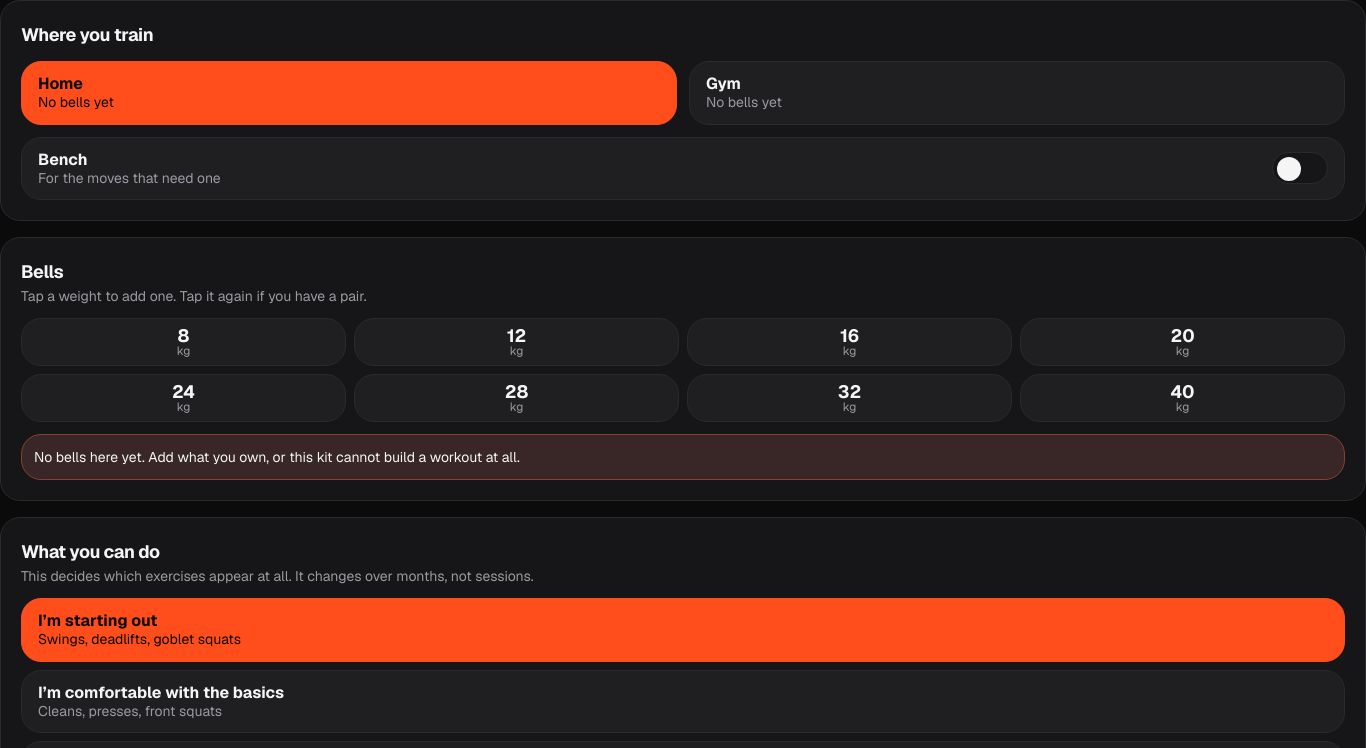
Test: KitEditor › counts distinct weights, not bells, when deciding whether to warn
Click the button with aria-label "Add a 24 kg bell". click: (184, 398)
box: [21,374,346,422]
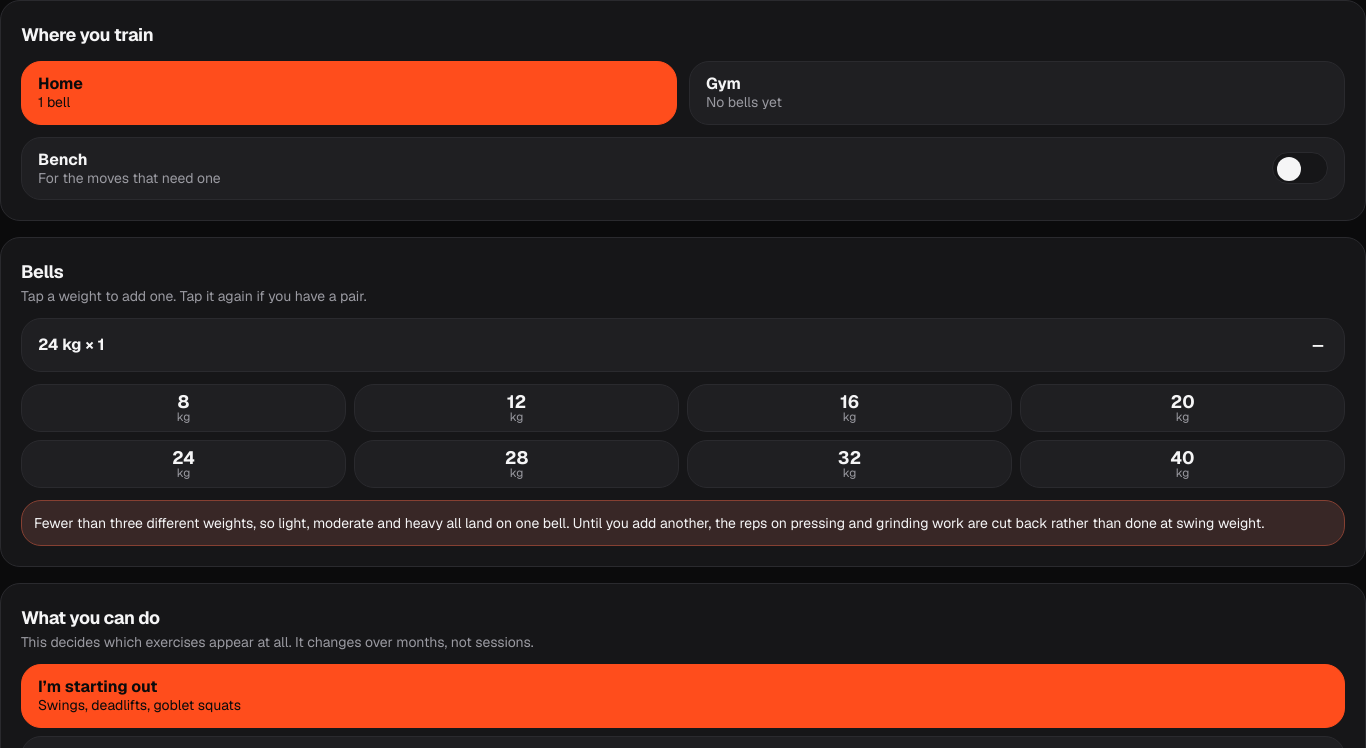
Click the button with aria-label "Add a 24 kg bell". click: (184, 464)
box: [21,440,346,488]
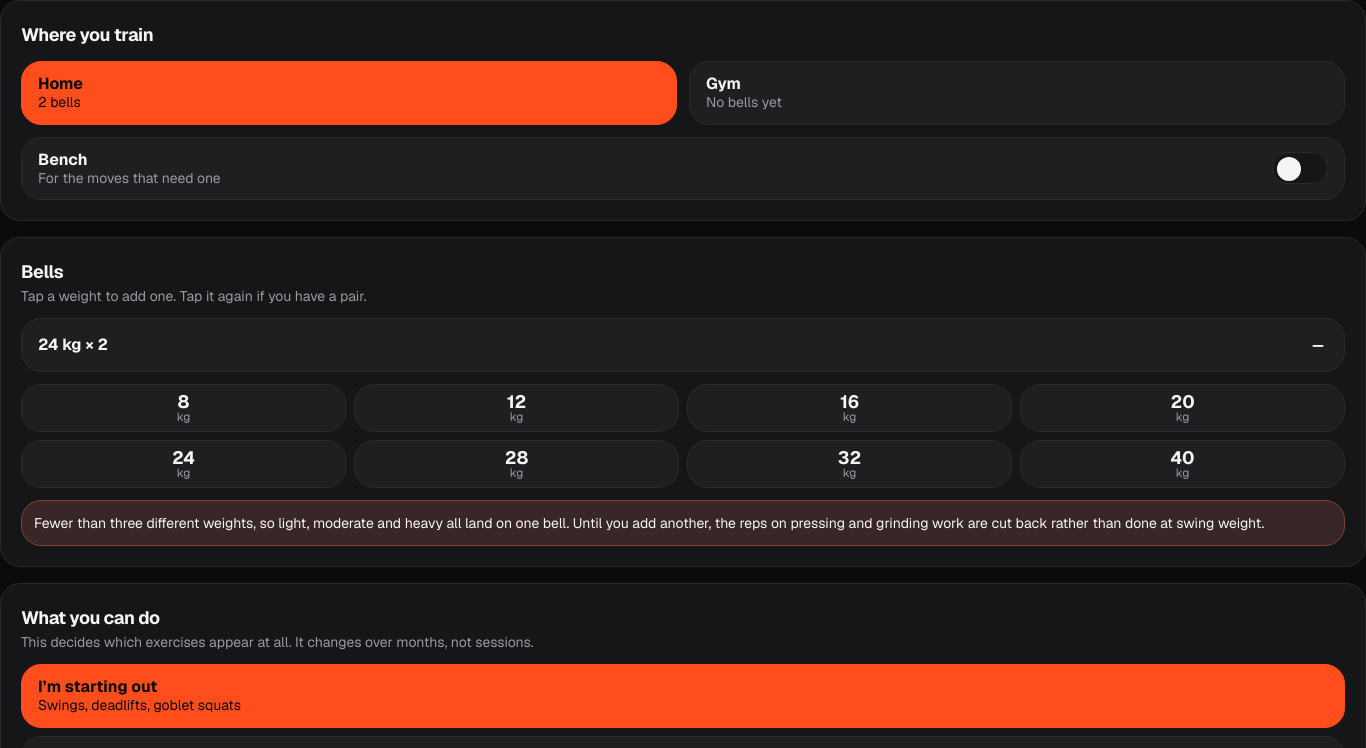
Click the button with aria-label "Add a 24 kg bell". click: (184, 464)
box: [21,440,346,488]
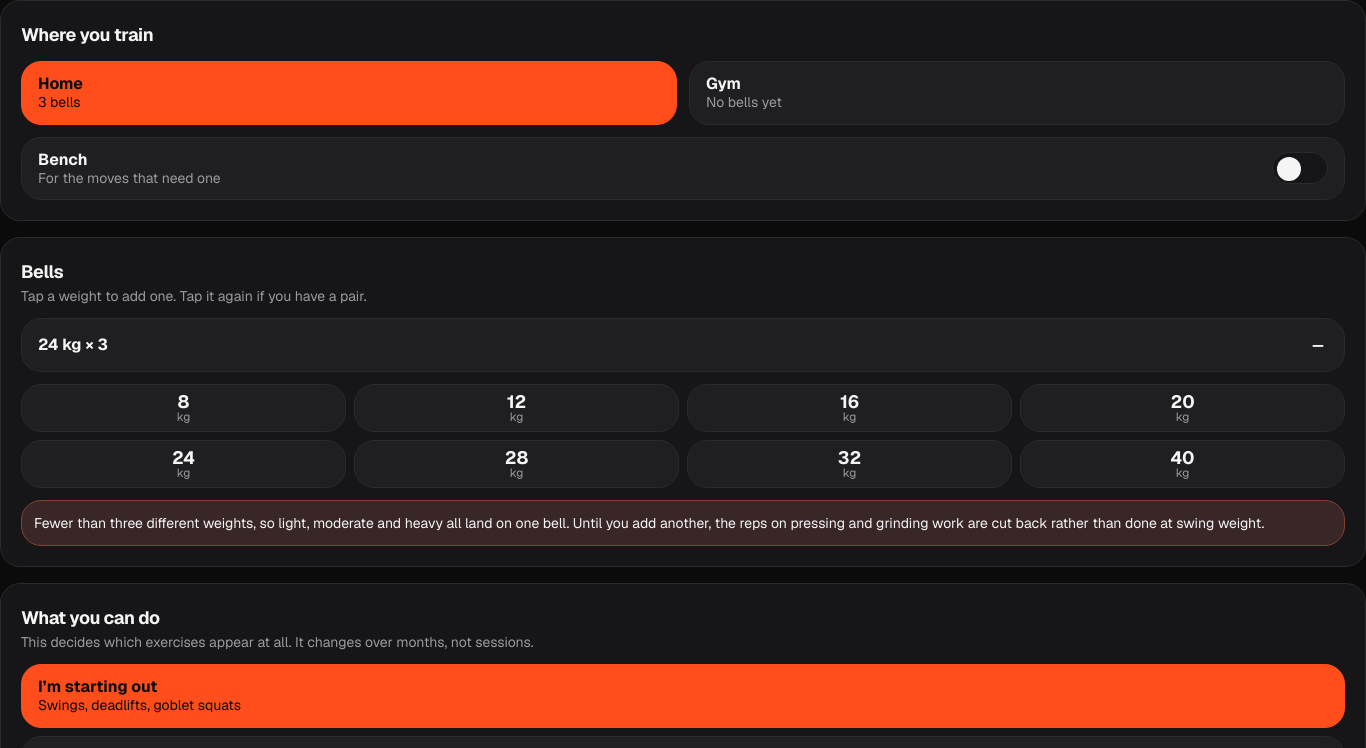
Result: the message shows "three different" at [34,514,1264,532]
Result: the text "24 kg × 3" is shown at [38,333,108,357]
